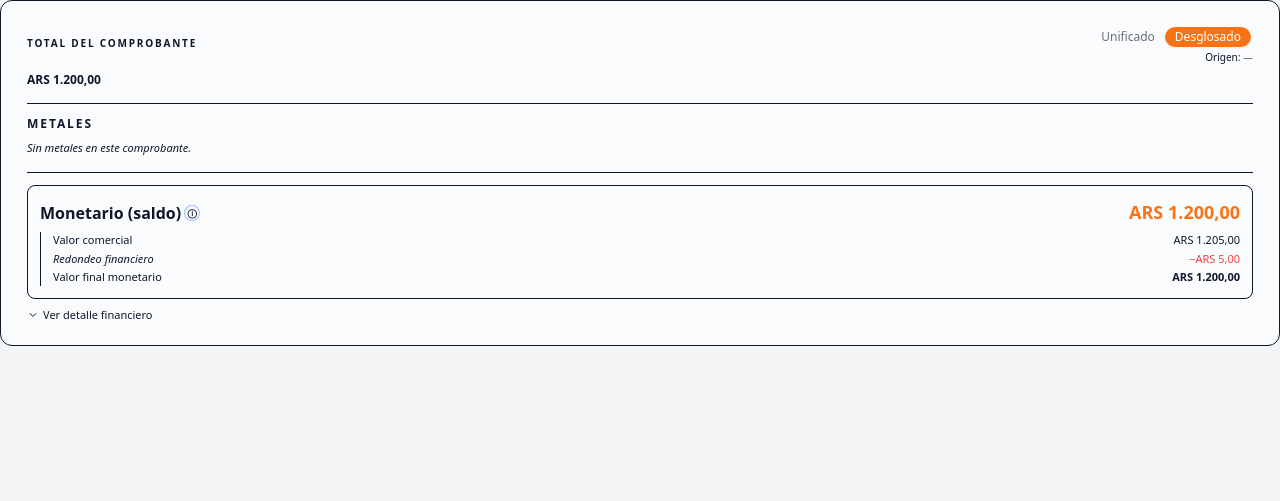
Test: TotalDelComprobanteCard — POLICY §R-Rounding-3 distinción lista vs comprobante › (R-3.C) scope BREAKDOWN → caption menciona metal y hechura
What coordinates should you click on to do the following:
click the button with test id "total-card-composicion-toggle"
I would click on:
 (90, 315)
Its box is [27,306,152,323].
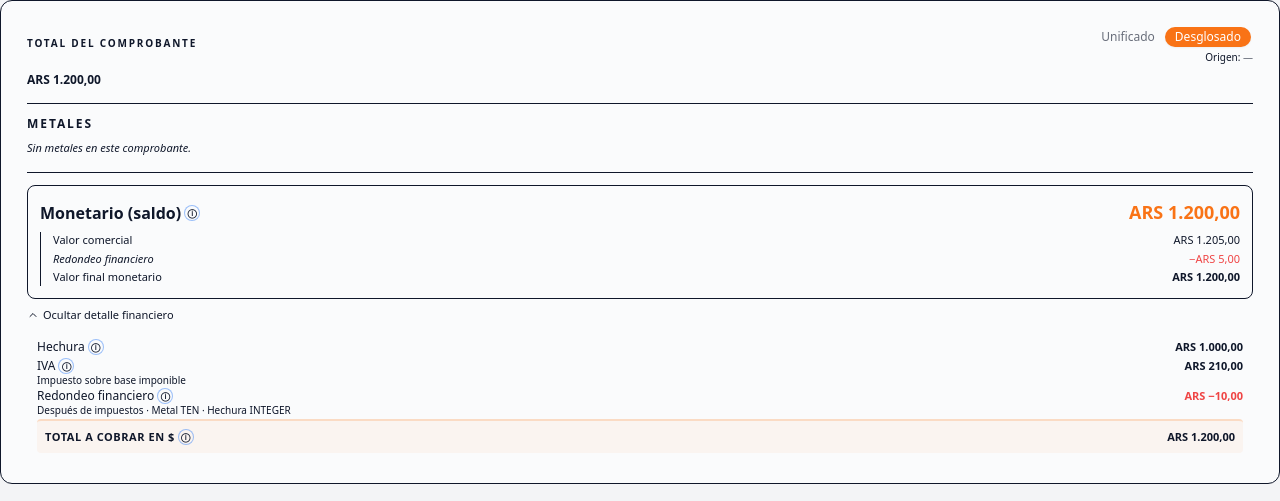
Check: the list item with test id "total-card-component-ROUNDING_MONETARY" shows "Metal TEN", box [37,403,291,417]
Check: the list item with test id "total-card-component-ROUNDING_MONETARY" shows "Hechura INTEGER", box [37,403,291,417]
